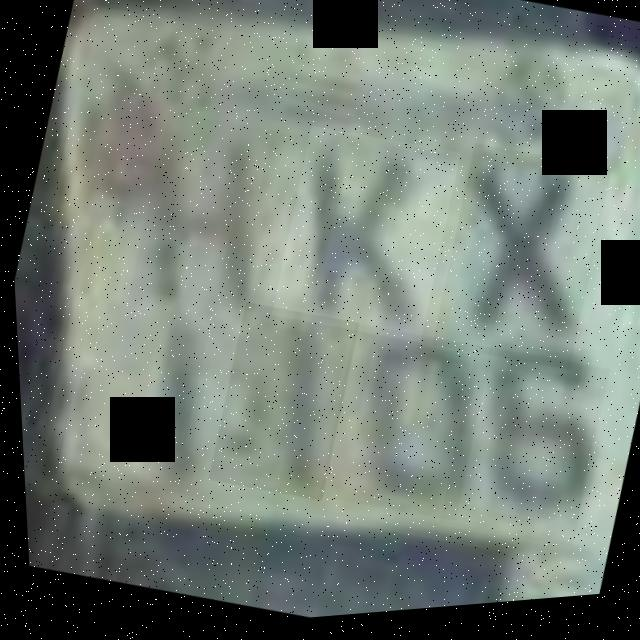0: (305, 320, 495, 537)
1: (85, 269, 247, 493), (195, 299, 362, 513)
6: (426, 344, 612, 564)
H: (120, 106, 303, 326)
K: (260, 121, 466, 359)
X: (419, 143, 617, 388)
